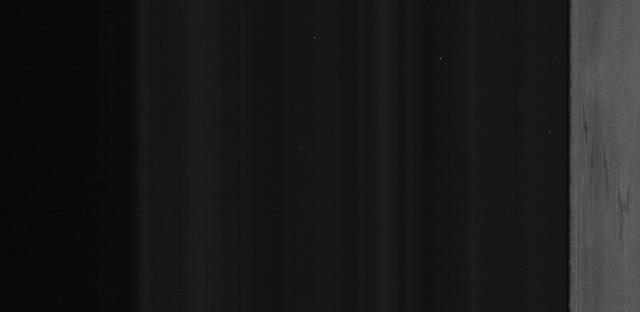silk_spot: (576, 104, 637, 258)
